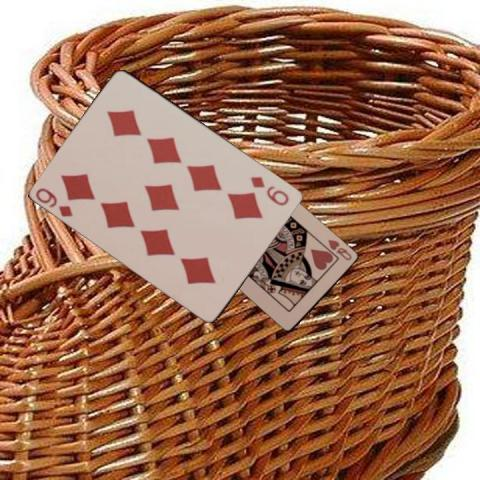9d: (248, 173, 291, 207), (33, 184, 74, 218)
Qh: (326, 236, 354, 262)
